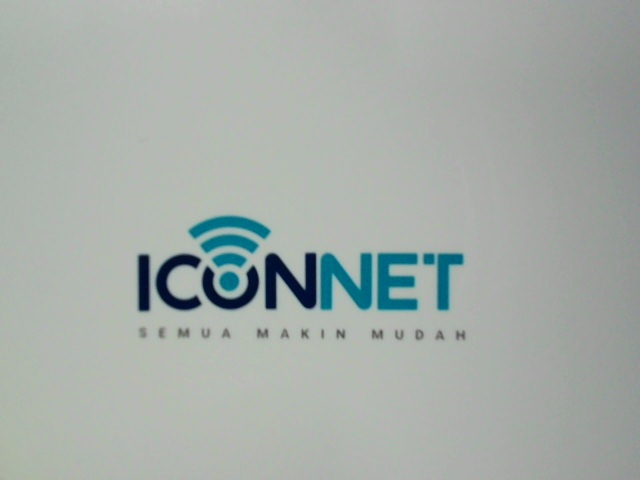BM_ICONNET: (113, 199, 474, 354)
